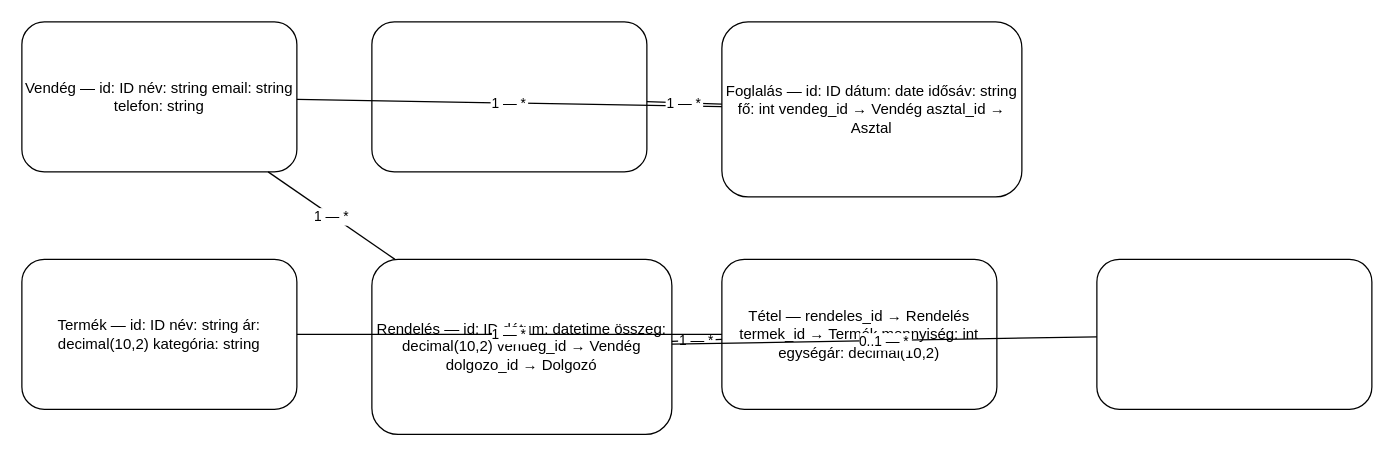
The diagram is 1394 pixels wide and 456 high, and some of its shapes have lost their labels. Each missing label, with the centre of its shape:
"Asztal — id: ID szám: int férőhely: int" belongs at [509,96].
"Dolgozó — id: ID név: string beosztás: string" belongs at [1234,333].
